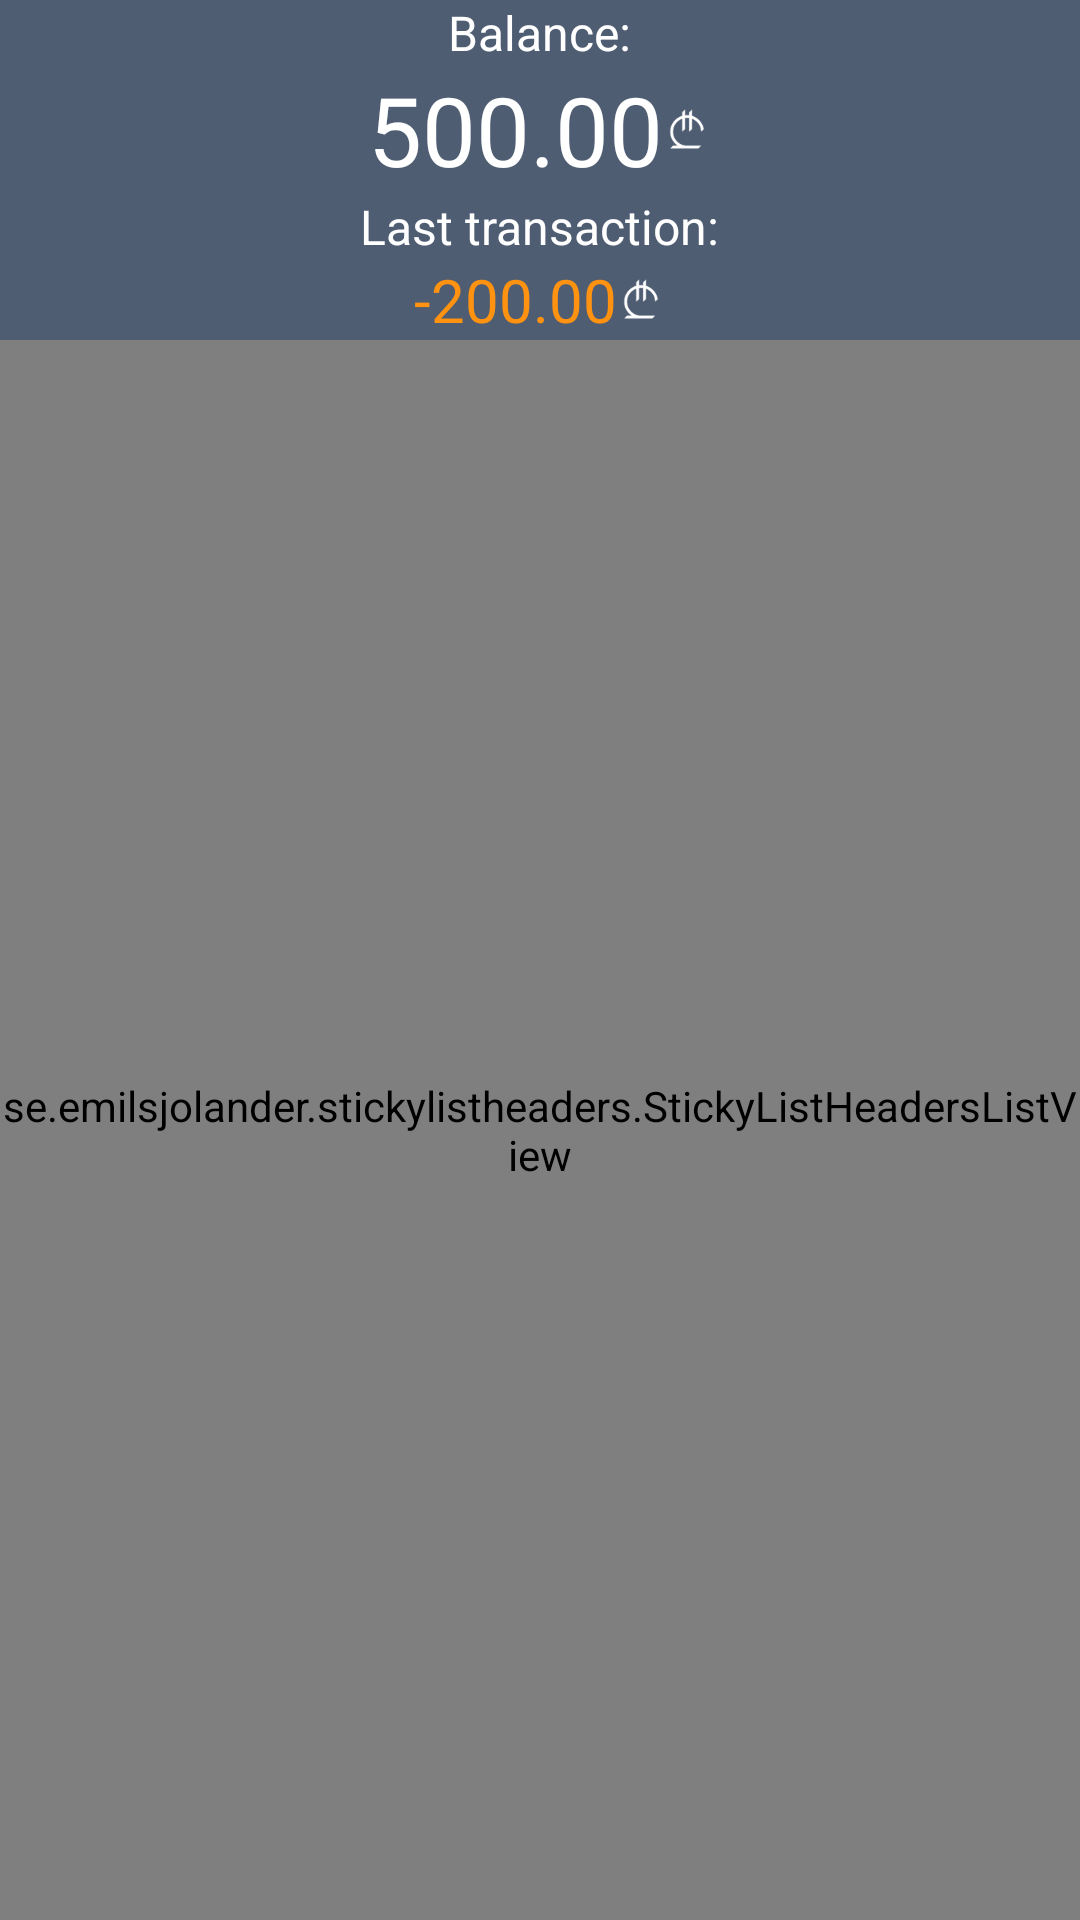

Named icons in this screenshot (1080*1920) and their bounding boxes, [left=x1, top=y1, right=x2, bottom=y2]:
gel: [left=670, top=110, right=704, bottom=149], [left=624, top=280, right=658, bottom=319]
